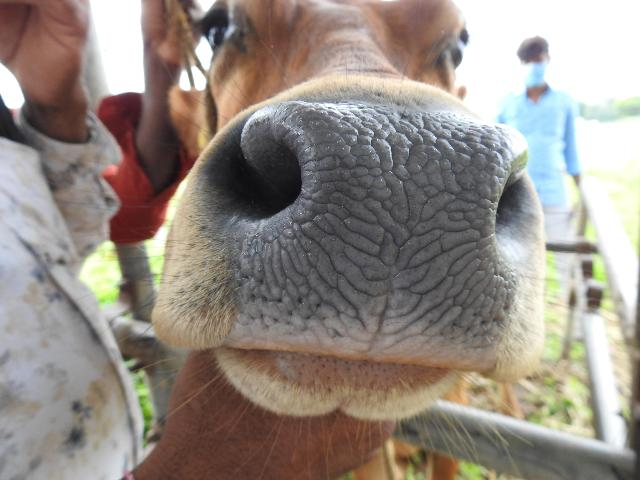Muzzle: (273, 102, 492, 352)
